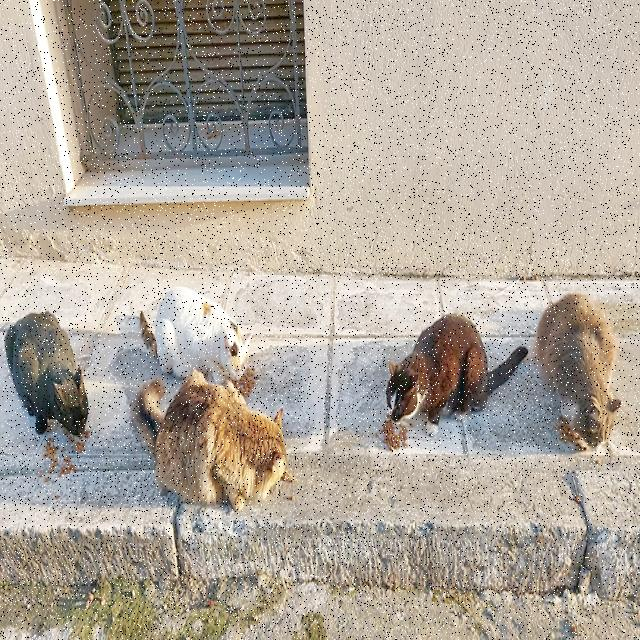cat: (131, 369, 294, 511), (386, 313, 528, 435), (536, 293, 621, 448), (140, 287, 251, 382), (5, 311, 89, 434)
